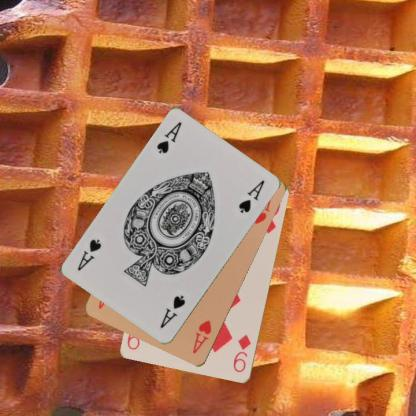9d: (230, 332, 252, 374)
Ah: (190, 318, 213, 355)
As: (157, 293, 187, 330), (154, 119, 183, 155)
